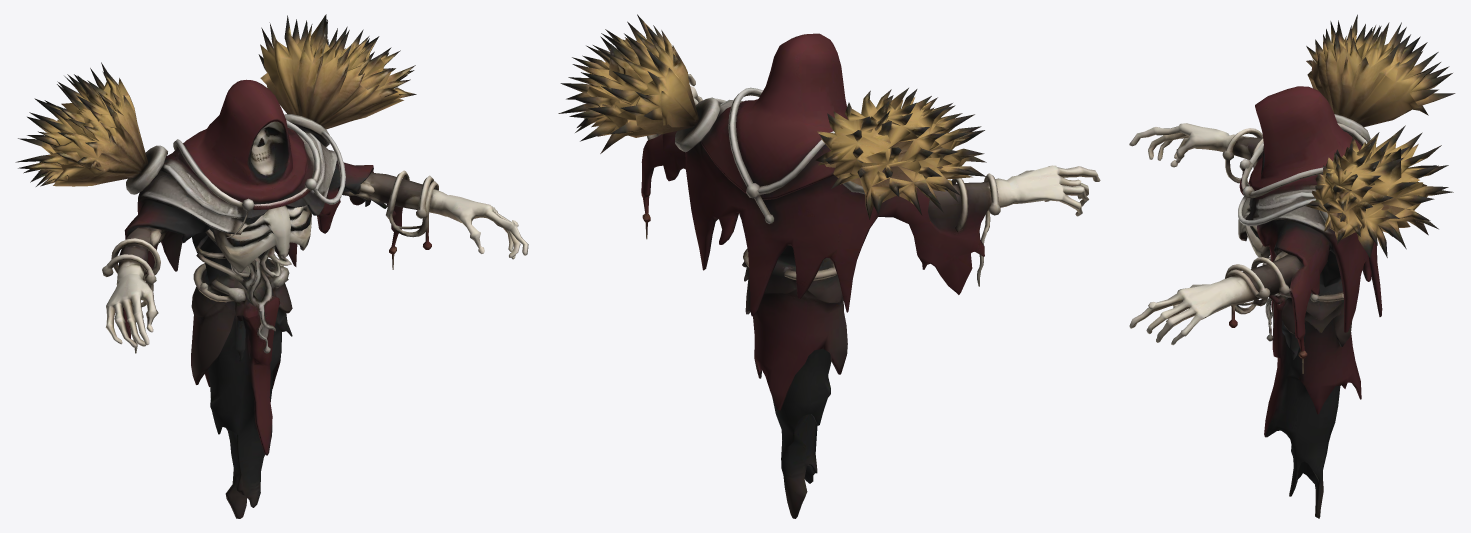
Rendered from hasat_lordu.glb.
3 views of the same model, side by side, from view 1: azimuth 30°, elevation 25°; view 2: azimuth 150°, elevation 25°; view 3: azimuth 270°, elevation 25° (orthographic). The views are drawn at different scales.
Parts seen in each view (by area): view 1: tripo_node_7abccf94-ea15-42a1-8f36-3a9bff8f4049; view 2: tripo_node_7abccf94-ea15-42a1-8f36-3a9bff8f4049; view 3: tripo_node_7abccf94-ea15-42a1-8f36-3a9bff8f4049.
Part boxes in pixels (left/top/right/bottom): tripo_node_7abccf94-ea15-42a1-8f36-3a9bff8f4049: left=15, top=14, right=528, bottom=518; tripo_node_7abccf94-ea15-42a1-8f36-3a9bff8f4049: left=558, top=14, right=1100, bottom=518; tripo_node_7abccf94-ea15-42a1-8f36-3a9bff8f4049: left=1129, top=14, right=1455, bottom=518.
Bounding box in the file's own units: 0.9438 × 0.9995 × 0.6763.
1 material, 1 textured.
